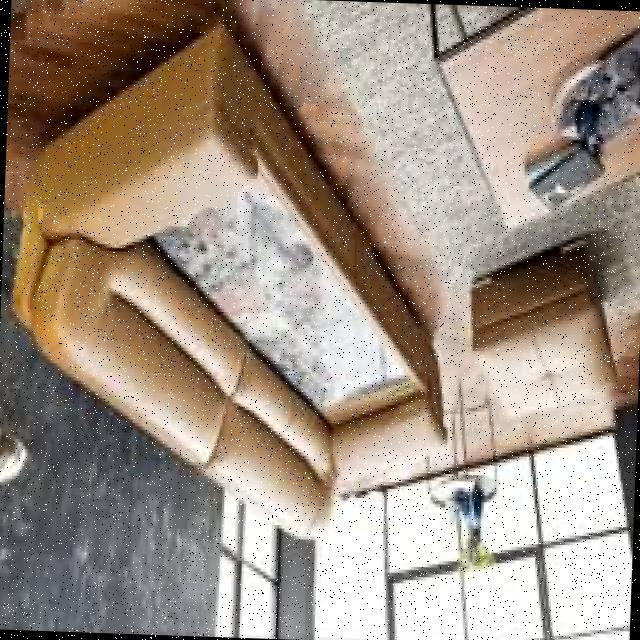Sofa: (0, 0, 472, 561)
